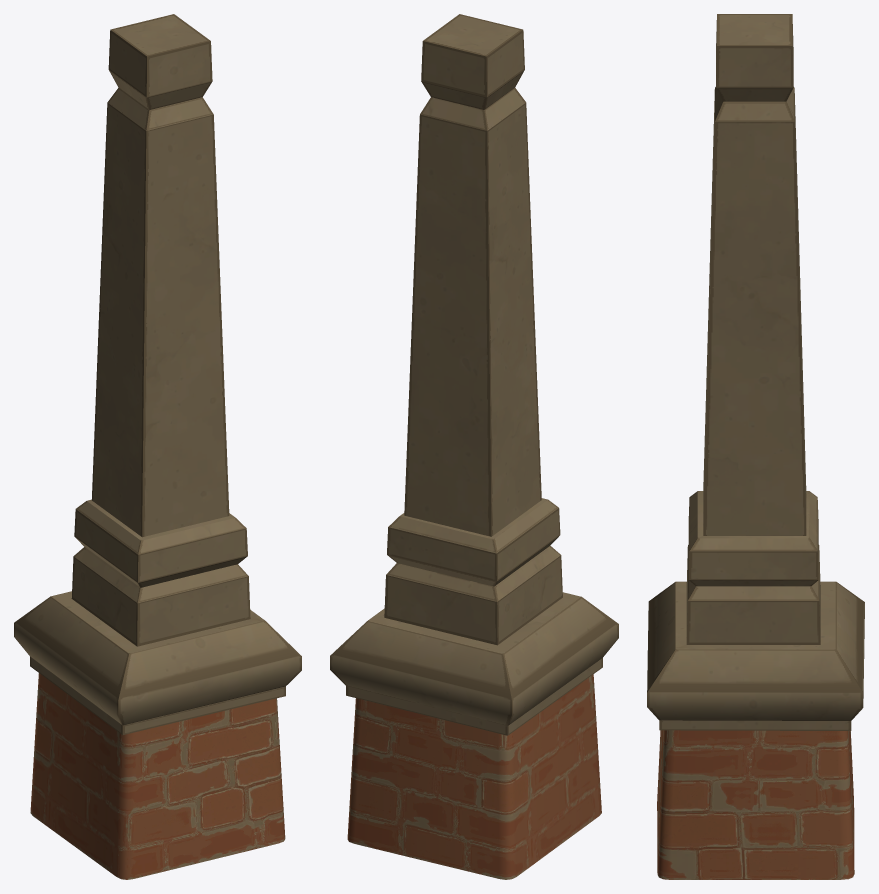
The model's file is SM_building_column_04.glb.
The picture shows the model from 3 angles, left to right: view 1: azimuth 30°, elevation 25°; view 2: azimuth 150°, elevation 25°; view 3: azimuth 270°, elevation 25°; orthographic projection. The views are drawn at different scales.
Parts seen in each view (by area): view 1: SM_building_column_04; view 2: SM_building_column_04; view 3: SM_building_column_04.
Part boxes in pixels (x1,y1,x2,y2): SM_building_column_04: [14, 14, 301, 879]; SM_building_column_04: [330, 14, 618, 879]; SM_building_column_04: [647, 14, 864, 879].
Bounding box in the file's own units: 0.9753 × 4 × 0.9753.
Materials: 2 (2 with a texture image).
